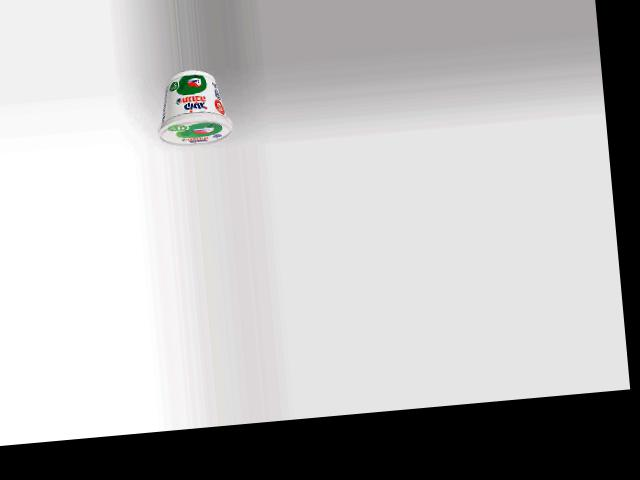cotage: (151, 67, 236, 149)
